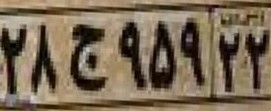character: (63, 19, 112, 96), (113, 18, 149, 91), (178, 17, 212, 91), (147, 17, 179, 94), (29, 21, 60, 99), (1, 22, 29, 95), (243, 26, 271, 96), (216, 27, 243, 96)
